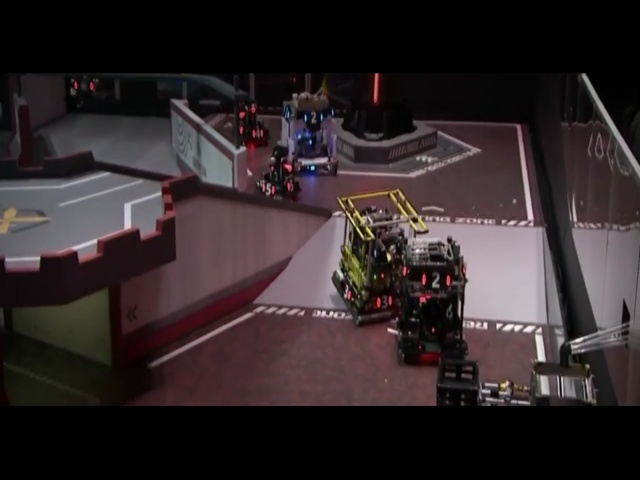bluePlate: (270, 150, 312, 178), (353, 321, 375, 355), (409, 333, 436, 359), (170, 203, 193, 228), (140, 201, 159, 225), (321, 134, 340, 155), (345, 130, 358, 149)
redPlate: (132, 325, 189, 364), (208, 314, 230, 356)
